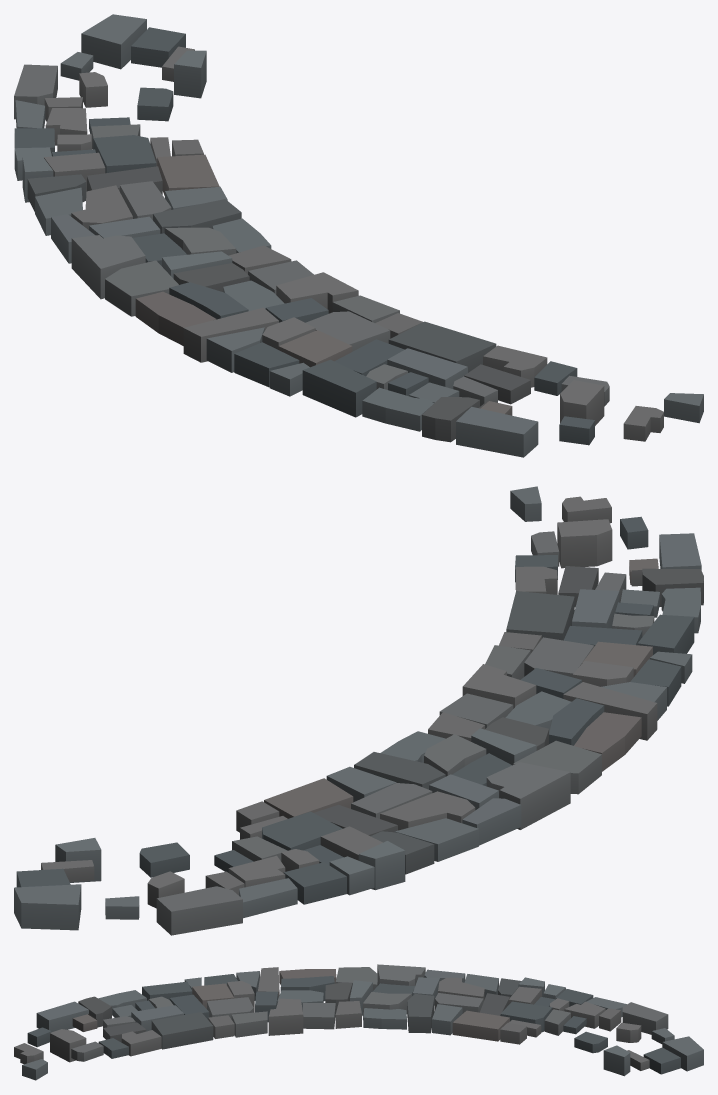
Rendered from ruins_road_003.glb.
3 views of the same model, one above another, from view 1: azimuth 30°, elevation 25°; view 2: azimuth 150°, elevation 25°; view 3: azimuth 270°, elevation 25° (orthographic). The views are drawn at different scales.
Visible parts, largest first — view 1: ruins_road_003; view 2: ruins_road_003; view 3: ruins_road_003.
Part boxes in pixels (left/top/right/bottom): ruins_road_003: left=14, top=14, right=703, bottom=457; ruins_road_003: left=14, top=486, right=703, bottom=935; ruins_road_003: left=14, top=964, right=703, bottom=1080.
Bounding box in the file's own units: 7.64 × 0.6684 × 21.9.
1 material, 1 textured.
